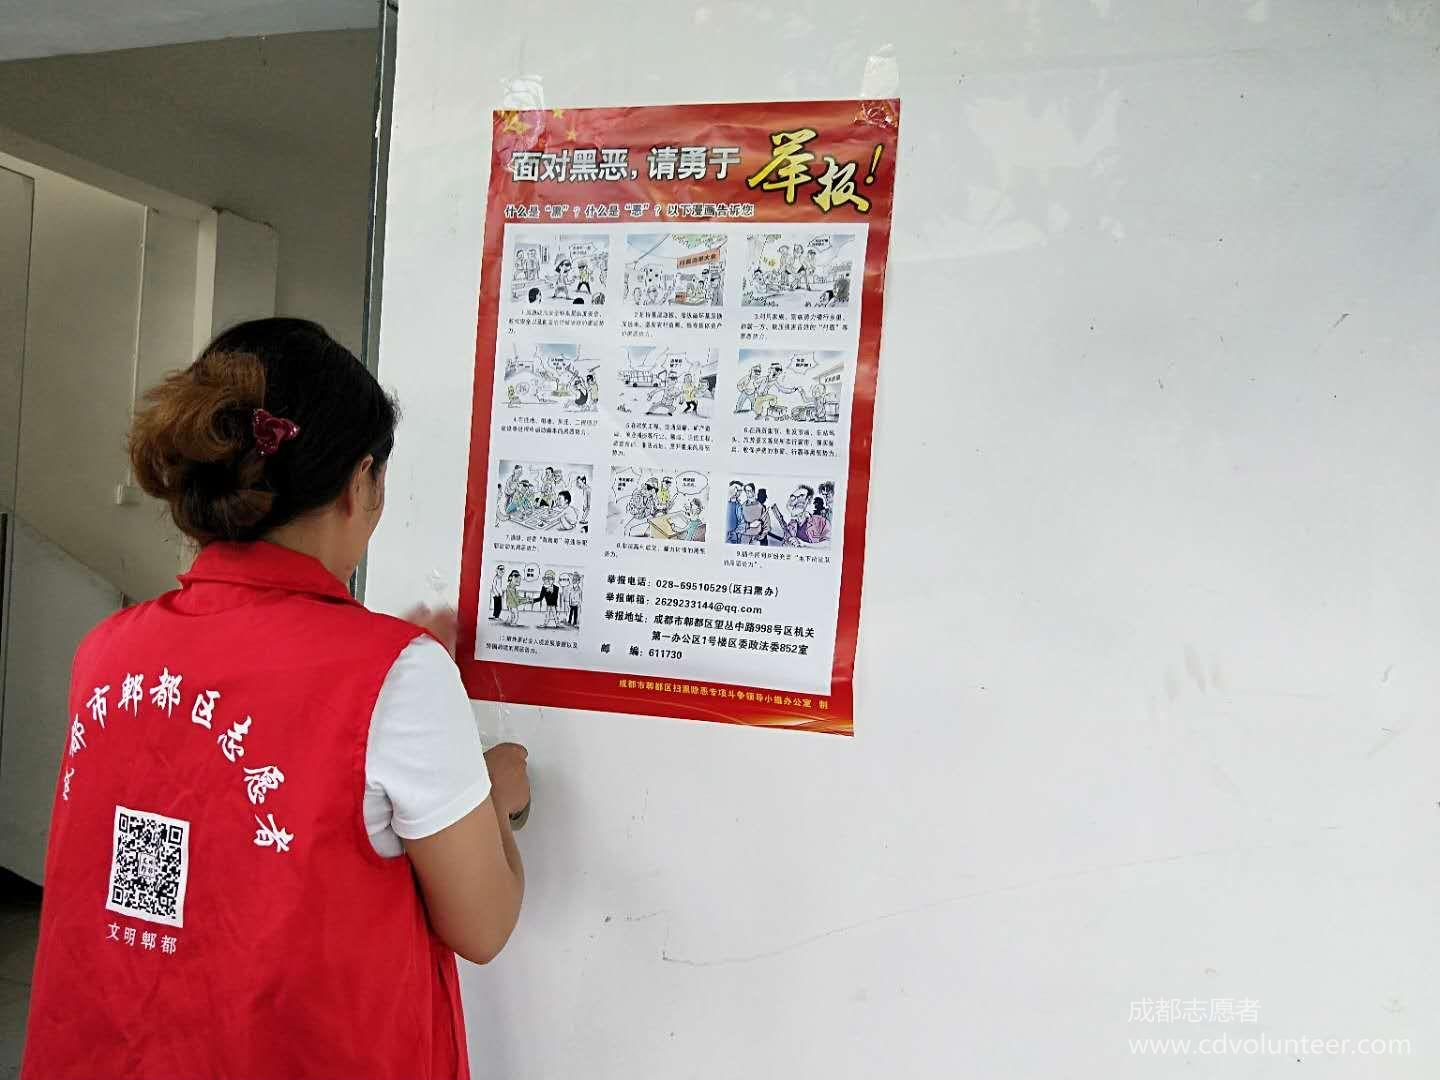bill: (449, 94, 899, 733)
